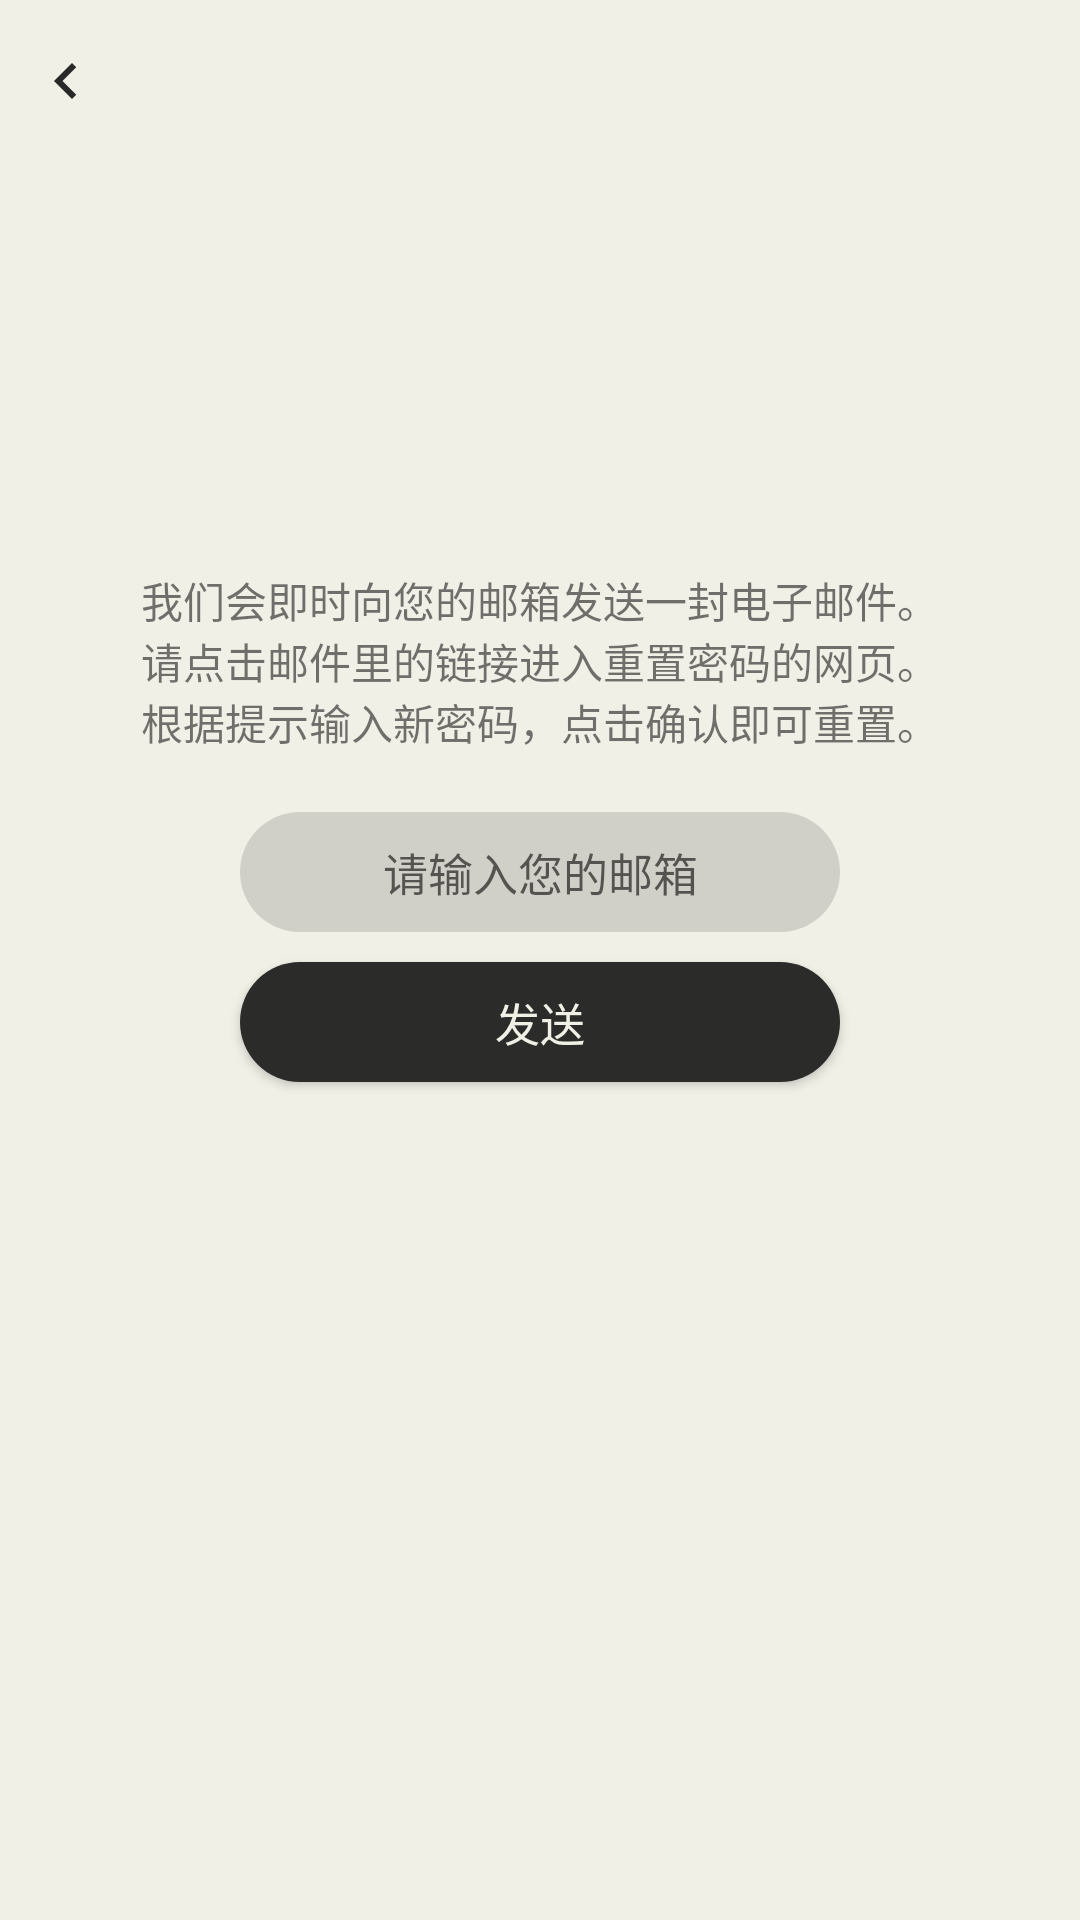

Screen size 1080 × 1920. Icon name, then its box in pixels as (x1=x1, y1=y1, x2=x2, y2=y2):
chevron left: (x1=54, y1=63, x2=76, y2=99)
